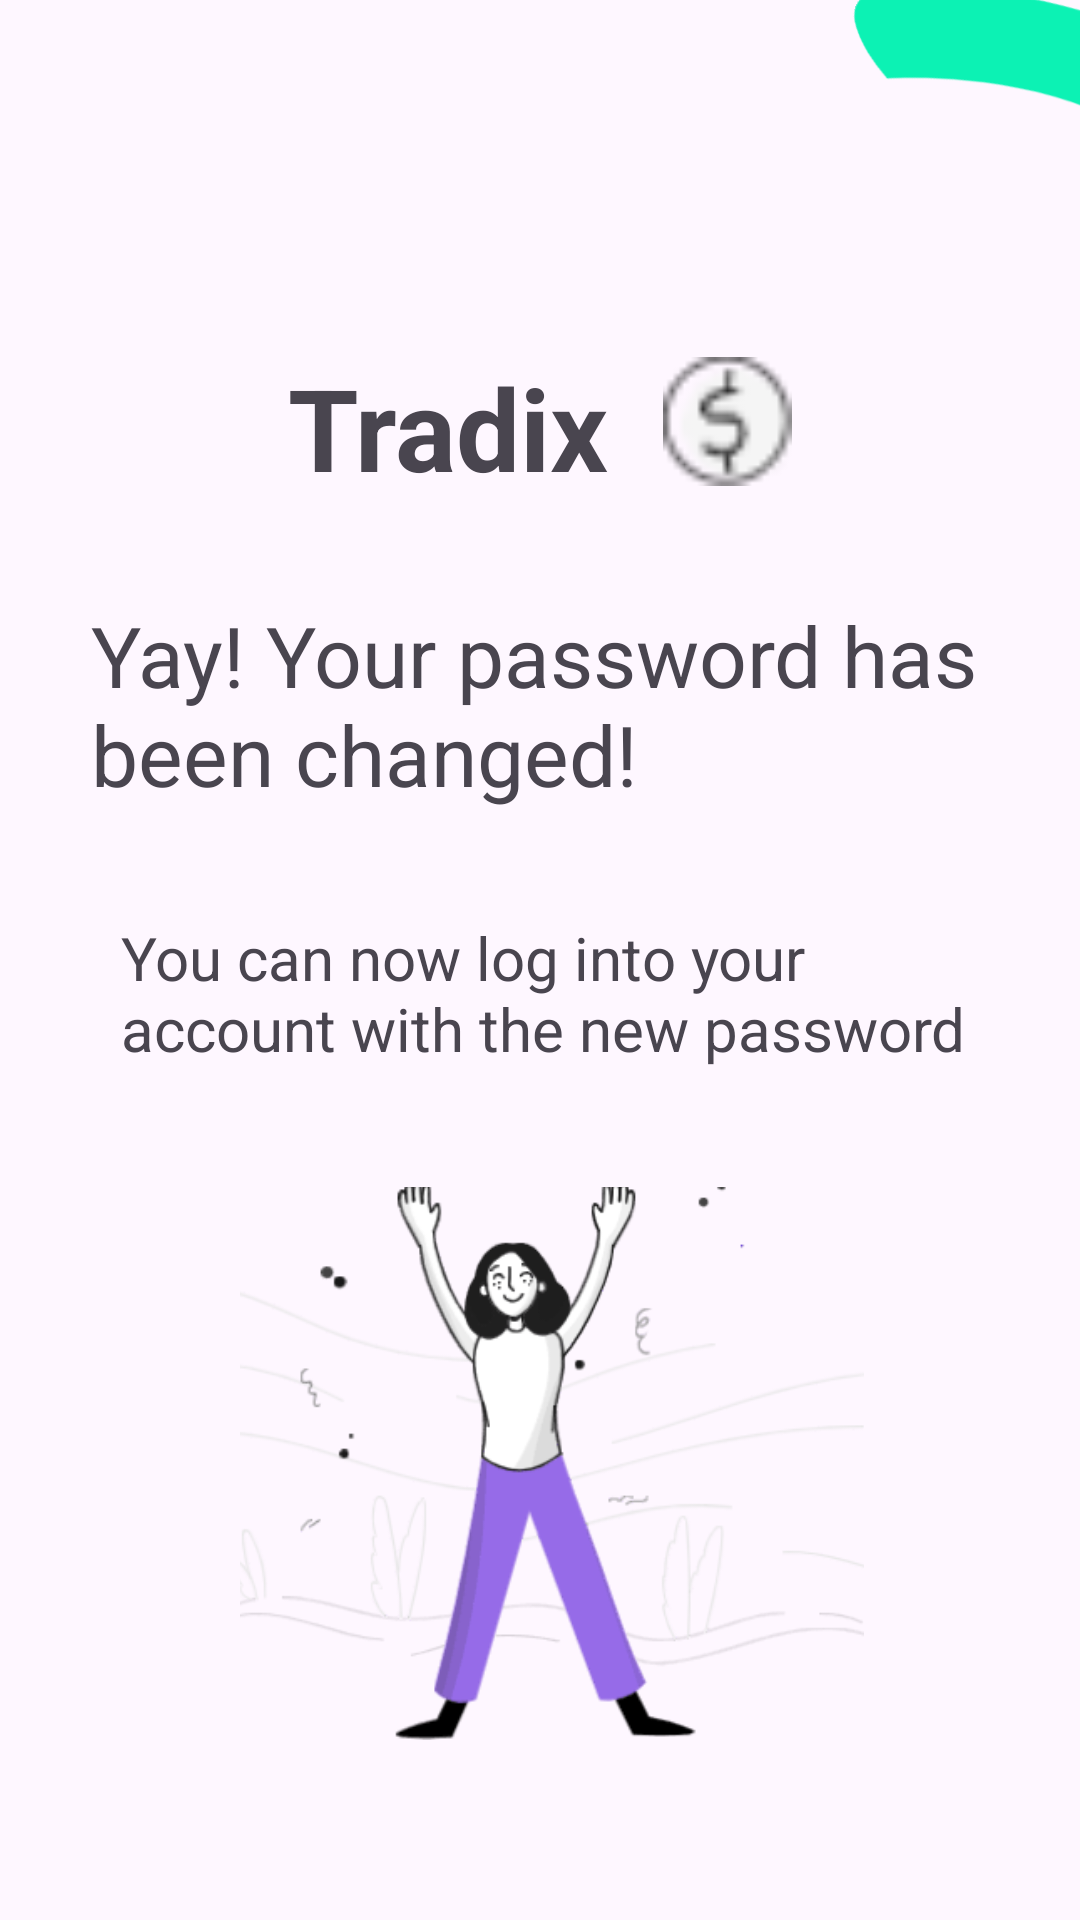

Icons on this 1080px×1920px Android screen, each with the point to tap as [x,y]:
Dollar Symbol: [727,421]
